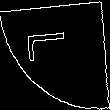L_E: (30, 37, 80, 73)
